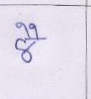ai_matra: (15, 23, 44, 37)
